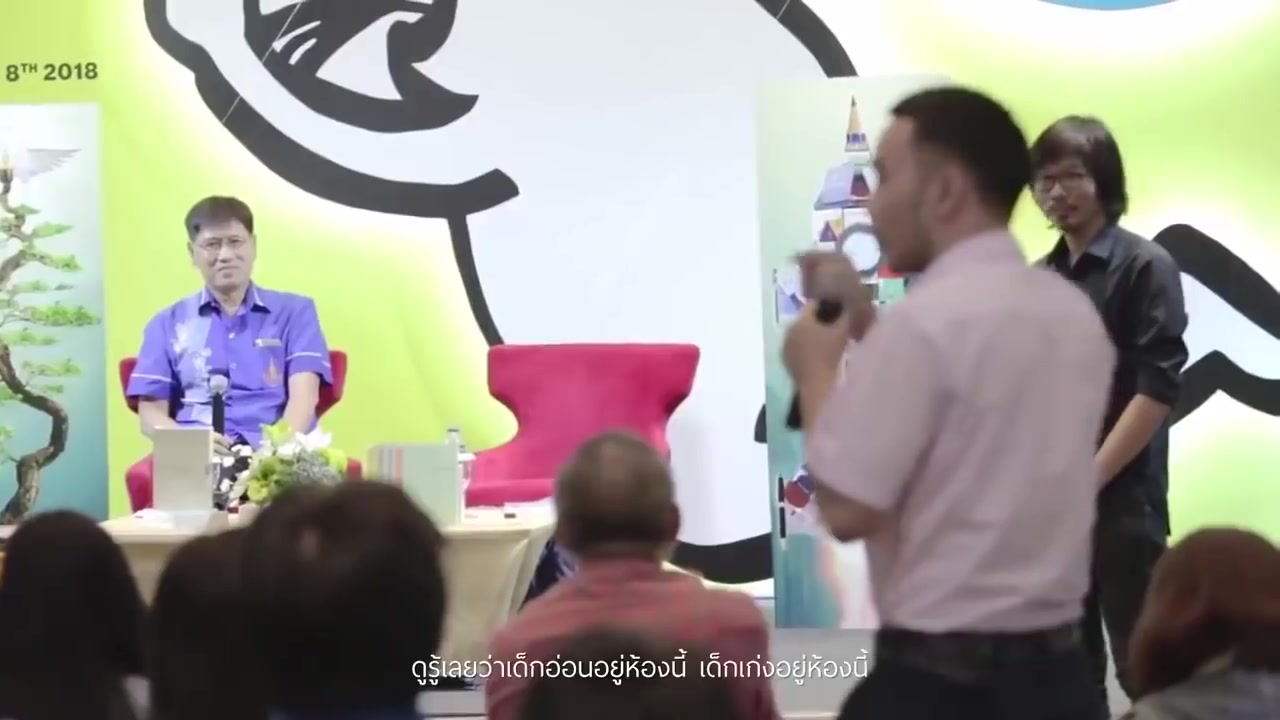text-label: (410, 643, 871, 684)
